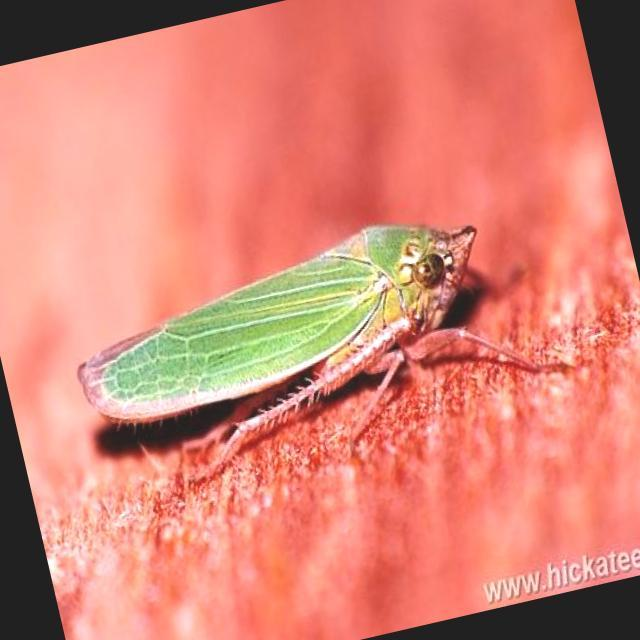green leaf hopper: (78, 225, 475, 422)
